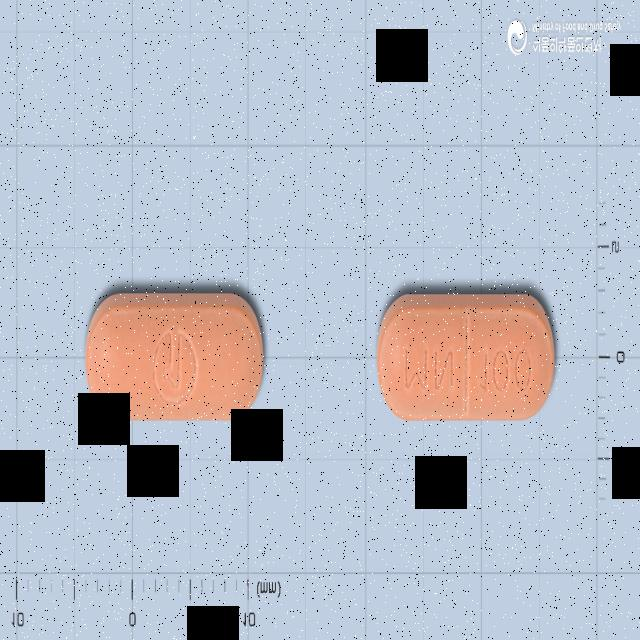Monocin: (378, 292, 556, 420), (84, 295, 264, 421)
